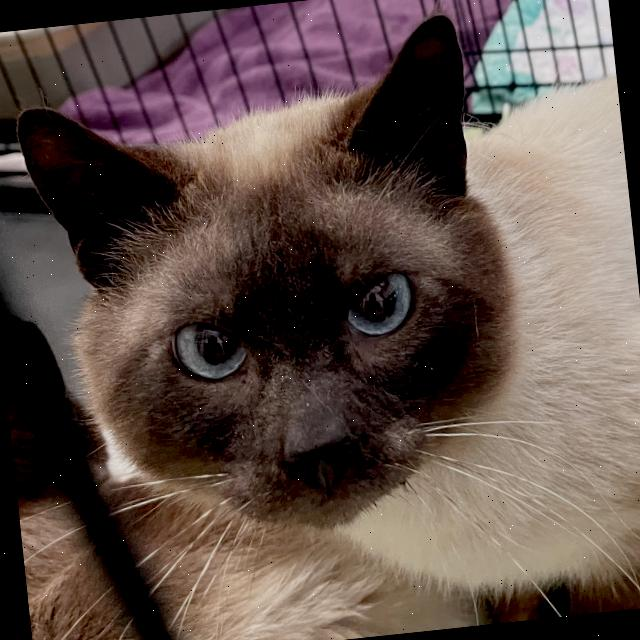siamese_cat: (0, 0, 575, 584)
